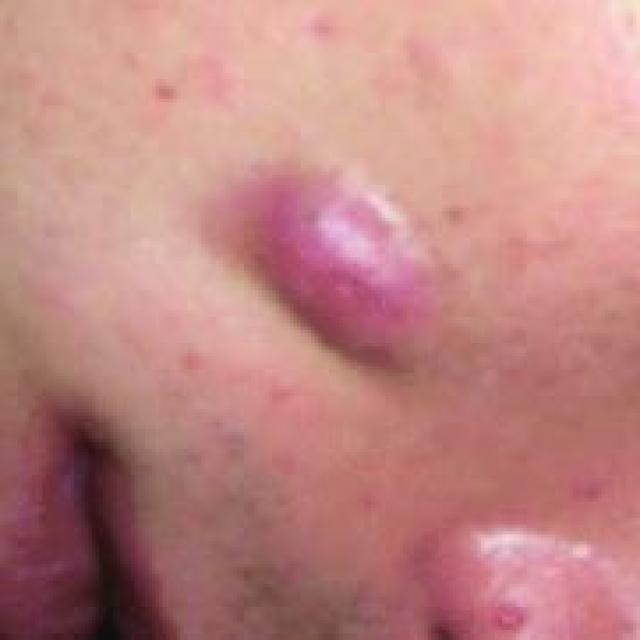nodule: (205, 139, 482, 355)
